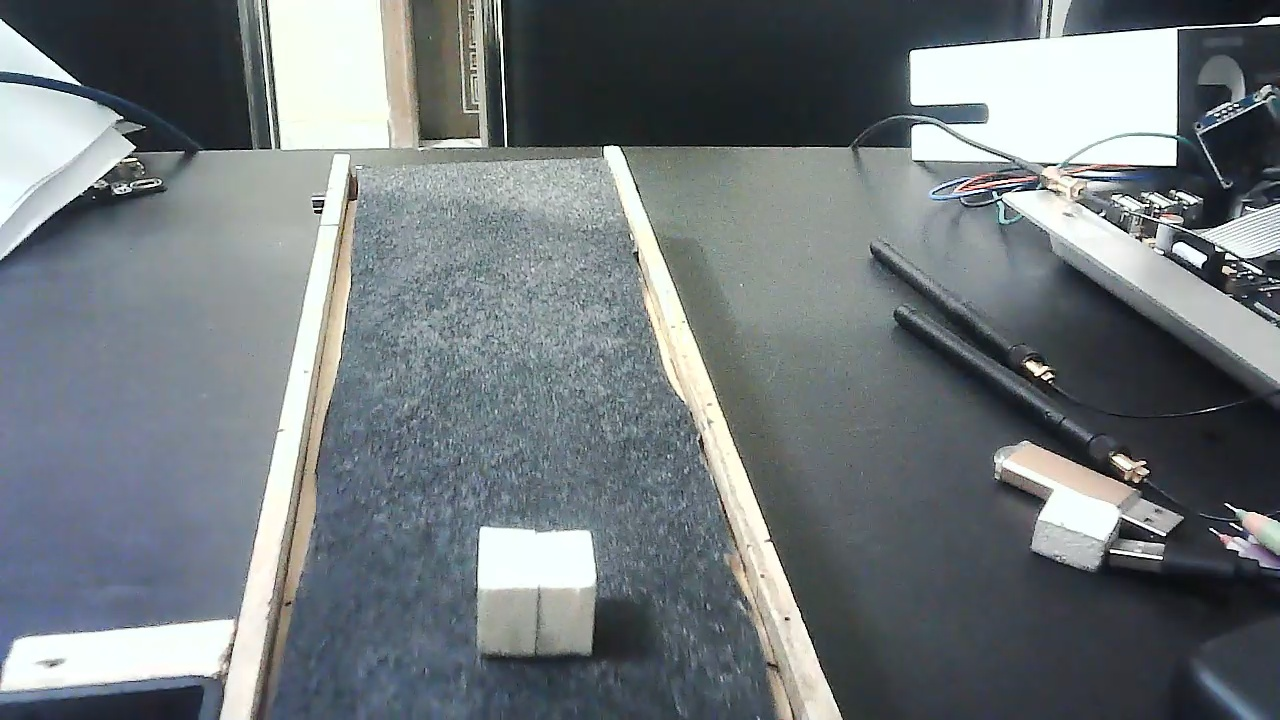Small: (474, 528, 601, 655)
